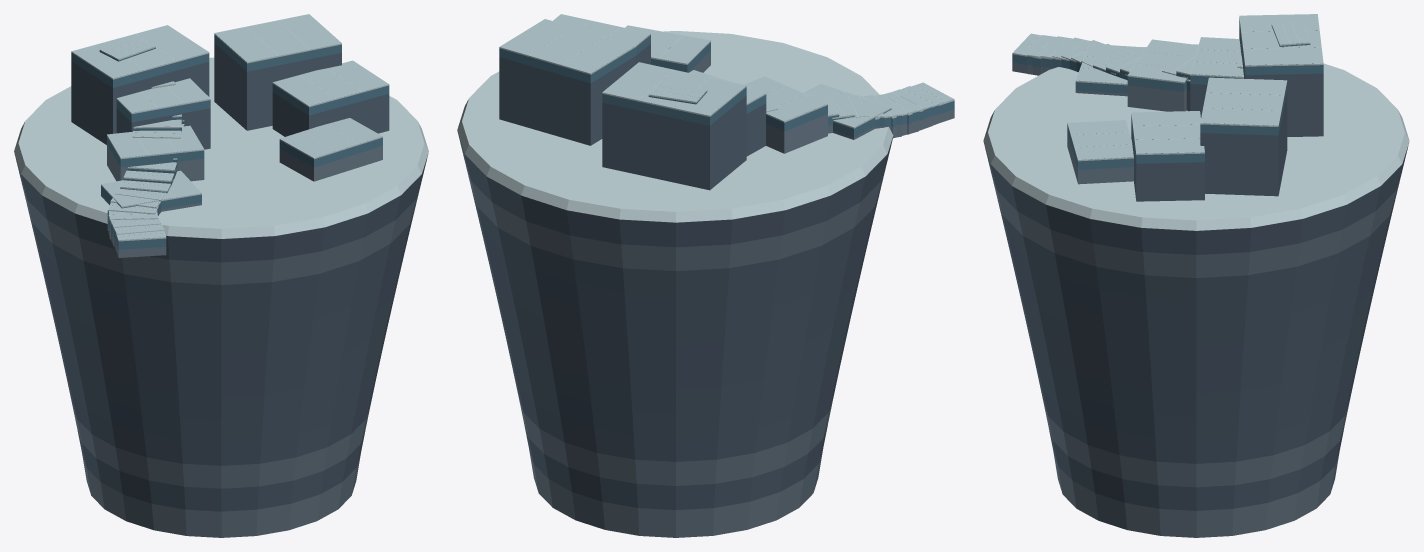
The model's file is world13-terrain-v1.glb.
3 renders of one model, left to right at view 1: azimuth 30°, elevation 25°; view 2: azimuth 150°, elevation 25°; view 3: azimuth 270°, elevation 25°, orthographic. The views are drawn at different scales.
Parts seen in each view (by area): view 1: w13-continuous-glacier-cliff, w13-snow-frost, w13-snow-tread, w13-ice-deep; view 2: w13-continuous-glacier-cliff, w13-snow-frost, w13-snow-tread, w13-ice-deep; view 3: w13-continuous-glacier-cliff, w13-snow-frost, w13-snow-tread, w13-ice-deep.
Part boxes in pixels (x1,y1,x2,y2): w13-continuous-glacier-cliff: (14, 43, 428, 537); w13-snow-frost: (14, 14, 428, 241); w13-snow-tread: (72, 14, 387, 239); w13-ice-deep: (71, 35, 389, 249); w13-continuous-glacier-cliff: (457, 43, 954, 537); w13-snow-frost: (457, 14, 954, 222); w13-snow-tread: (500, 14, 953, 126); w13-ice-deep: (499, 35, 954, 137); w13-continuous-glacier-cliff: (984, 27, 1408, 537); w13-snow-frost: (983, 14, 1409, 230); w13-snow-tread: (1013, 14, 1323, 159); w13-ice-deep: (1012, 18, 1323, 169).
Size of the model in its own units: 45.6 by 49.33 by 45.12.
